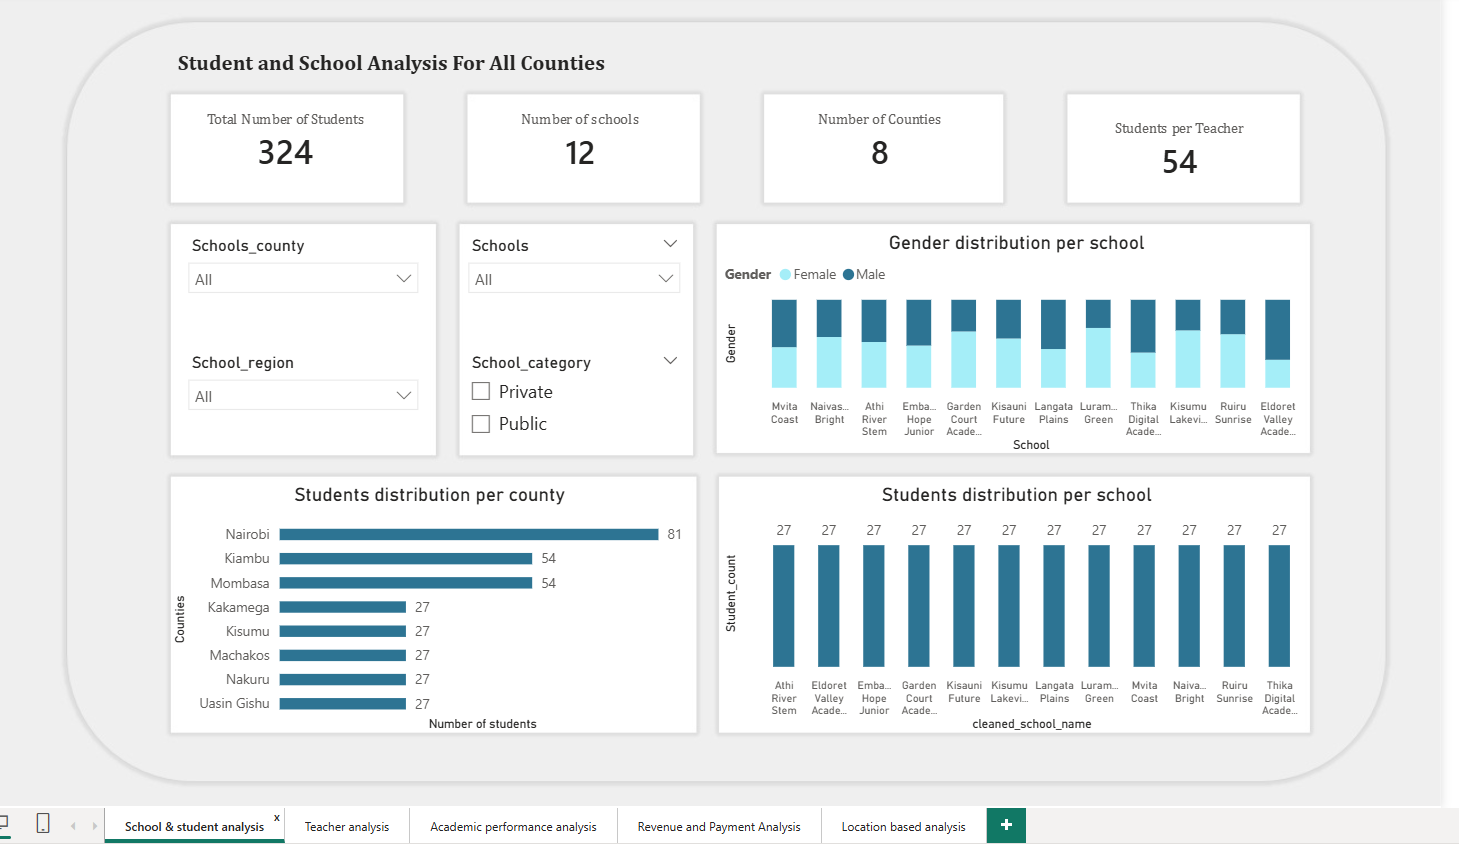

The dashboard page shown, as its layout file describes it:
{"tool":"powerbi","page":{"name":"School & student analysis","canvas":[1280,720],"ordinal":0},"visuals":[{"type":"clusteredColumnChart","title":"Students distribution per school","fields":{"Category":["Dim_school.cleaned_school_name"],"Y":["Dim_school.Student_count"]},"box":[640,432,528,224],"z":0},{"type":"cardVisual","fields":{"Data":["Dim_school.Student_count"]},"box":[152,80,208,96],"z":1000},{"type":"cardVisual","fields":{"Data":["Count(Dim_school.Cleaned_school_id)"]},"box":[413.3,80,208,96],"z":2000},{"type":"clusteredBarChart","title":"Students distribution per  county","fields":{"Category":["Dim_school.Cleaned_school_county"],"Y":["CountNonNull(Dim_student.student_id)"]},"box":[152,432,464,224],"z":3000},{"type":"cardVisual","fields":{"Data":["Count(Dim_school.Cleaned_school_county)"]},"box":[674.7,80,216,96],"z":4000},{"type":"hundredPercentStackedColumnChart","title":"Gender distribution per school","fields":{"Category":["Dim_school.cleaned_school_name"],"Series":["Dim_student.Cleaned_student _gender"],"Y":["CountNonNull(Dim_student.Cleaned_student _gender)"]},"box":[640,208,528,200],"z":5000},{"type":"slicer","fields":{"Values":["Dim_school.Cleaned_school_county"]},"box":[160,208,224,192],"z":6000},{"type":"slicer","fields":{"Values":["Dim_school.cleaned_school_name"]},"box":[408,208,208,200],"z":7000},{"type":"cardVisual","fields":{"Data":["Dim_school.Teacher_to_school"]},"box":[944,80,208,112],"z":8000},{"type":"card","fields":{"Values":["Dim_school.Dynamic Title"]},"box":[144,40,408,40],"z":9000},{"type":"slicer","fields":{"Values":["Dim_school.cleaned_school_type"]},"box":[408,312,208,88],"z":10000},{"type":"slicer","fields":{"Values":["Dim_school.Cleaned_school_region"]},"box":[160,312,224,80],"z":11000}]}

Visuals, with their boxes on the page's 1280x720 design canvas (x1, y1, x2, y2). These are canvas units, not pixel positions in the 1459x844 screenshot, which may show the page scaled, cropped or inside an application window:
"Students distribution per school" clusteredColumnChart: l=640, t=432, r=1168, b=656
cardVisual - Dim_school.Student_count: l=152, t=80, r=360, b=176
cardVisual - Count(Dim_school.Cleaned_school_id): l=413, t=80, r=621, b=176
"Students distribution per  county" clusteredBarChart: l=152, t=432, r=616, b=656
cardVisual - Count(Dim_school.Cleaned_school_county): l=675, t=80, r=891, b=176
"Gender distribution per school" hundredPercentStackedColumnChart: l=640, t=208, r=1168, b=408
slicer - Dim_school.Cleaned_school_county: l=160, t=208, r=384, b=400
slicer - Dim_school.cleaned_school_name: l=408, t=208, r=616, b=408
cardVisual - Dim_school.Teacher_to_school: l=944, t=80, r=1152, b=192
card - Dim_school.Dynamic Title: l=144, t=40, r=552, b=80
slicer - Dim_school.cleaned_school_type: l=408, t=312, r=616, b=400
slicer - Dim_school.Cleaned_school_region: l=160, t=312, r=384, b=392
